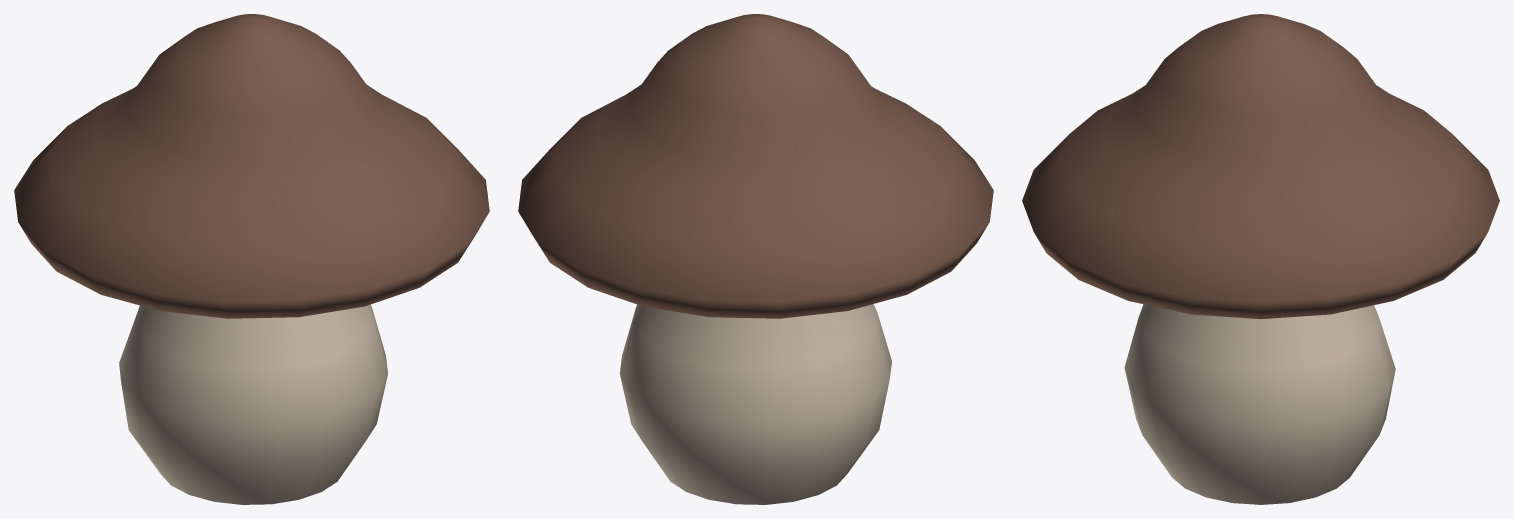
File: Hongo_blocking.fbx
3 views of the same model, side by side, from view 1: azimuth 30°, elevation 25°; view 2: azimuth 150°, elevation 25°; view 3: azimuth 270°, elevation 25° (orthographic).
Parts seen in each view (by area): view 1: HongoTop, HongoBase; view 2: HongoTop, HongoBase; view 3: HongoTop, HongoBase.
Boxes of the visible parts, bbox=[...] form: HongoTop: bbox=[14, 14, 489, 318]; HongoBase: bbox=[119, 304, 387, 504]; HongoTop: bbox=[518, 14, 993, 318]; HongoBase: bbox=[619, 304, 891, 504]; HongoTop: bbox=[1022, 14, 1499, 319]; HongoBase: bbox=[1124, 304, 1395, 504].
Bounding box in the file's own units: 0.7615 × 0.7856 × 0.7615.
